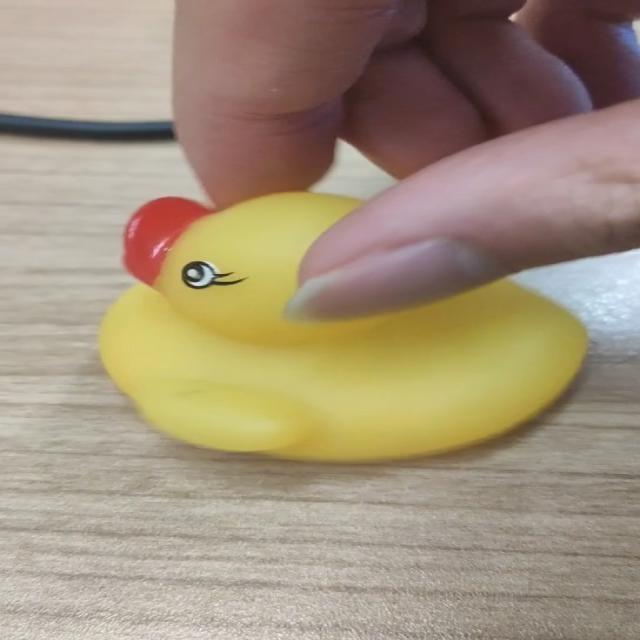rubber-duck: (99, 191, 585, 459)
